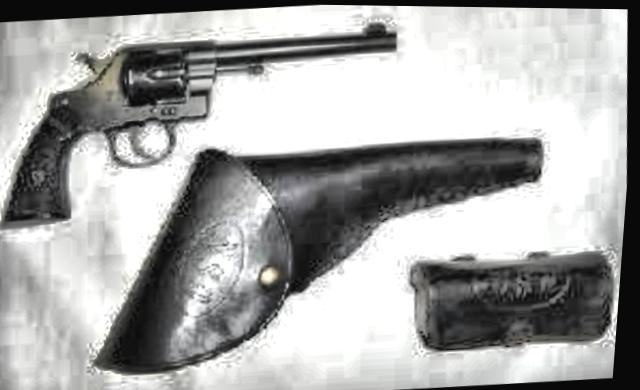pistol: (0, 10, 406, 227)
